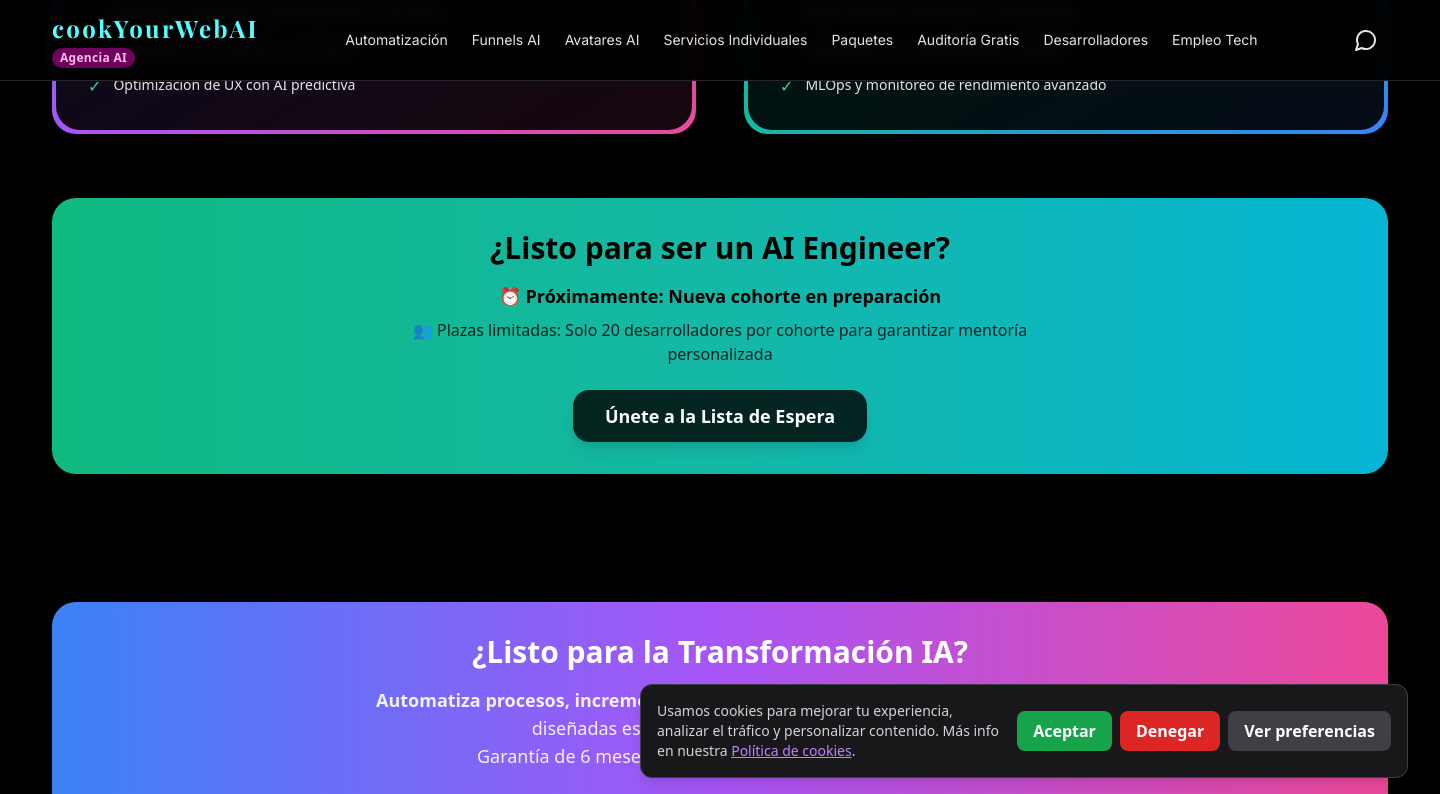
Test: home lead capture modals › the waiting list opens the developer form, without Tally
This screenshot has width=1440, height=794.
(page scrolled)
Click the button "Únete a la Lista de Espera" at (720, 416), box [573, 390, 867, 442]
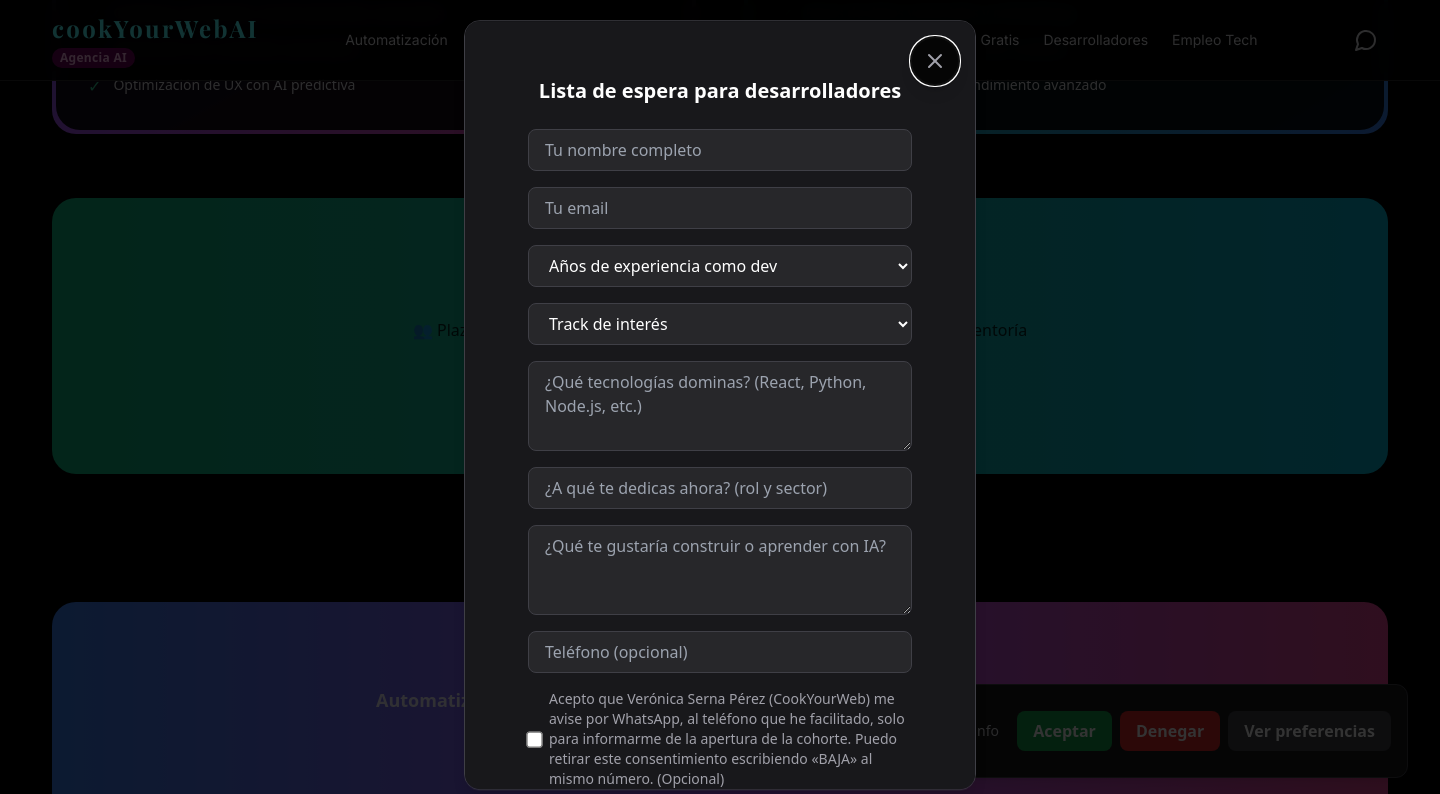
expect the 2nd dropdown named "track de interés" is shown: met, box [528, 303, 912, 345]
